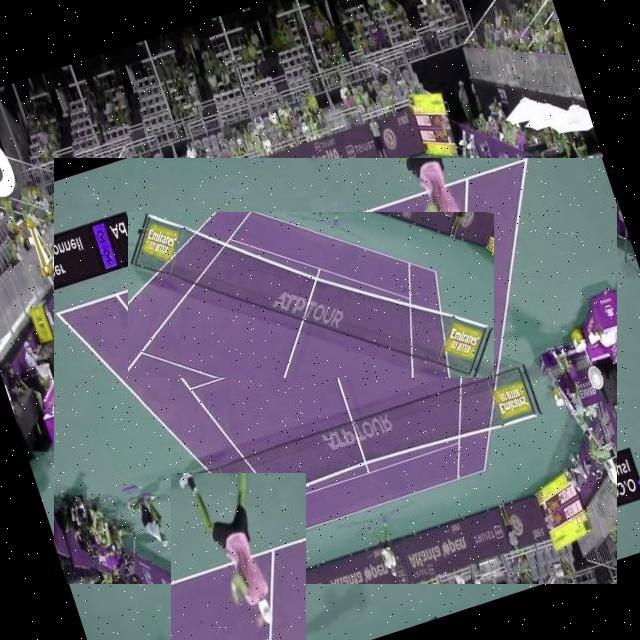court: (54, 158, 617, 584)
net: (128, 212, 494, 378)
player: (171, 473, 306, 640)
